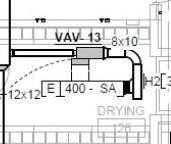VAV: (71, 43, 108, 68)
